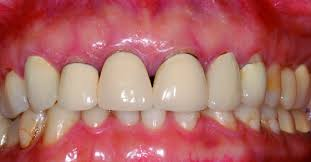normal: (98, 49, 154, 109), (154, 55, 207, 113), (206, 51, 241, 111), (23, 53, 59, 107), (58, 62, 99, 109), (240, 53, 265, 107), (3, 66, 25, 114), (209, 103, 238, 129), (173, 105, 201, 130), (141, 105, 167, 129), (274, 107, 295, 135), (296, 64, 309, 109), (112, 106, 141, 126), (281, 70, 295, 109), (85, 106, 107, 127), (291, 109, 308, 132), (8, 117, 17, 146), (1, 119, 7, 145)
rough: (237, 106, 260, 132), (259, 106, 279, 134)
yellow: (46, 106, 79, 145), (18, 111, 40, 150), (264, 63, 281, 106)
